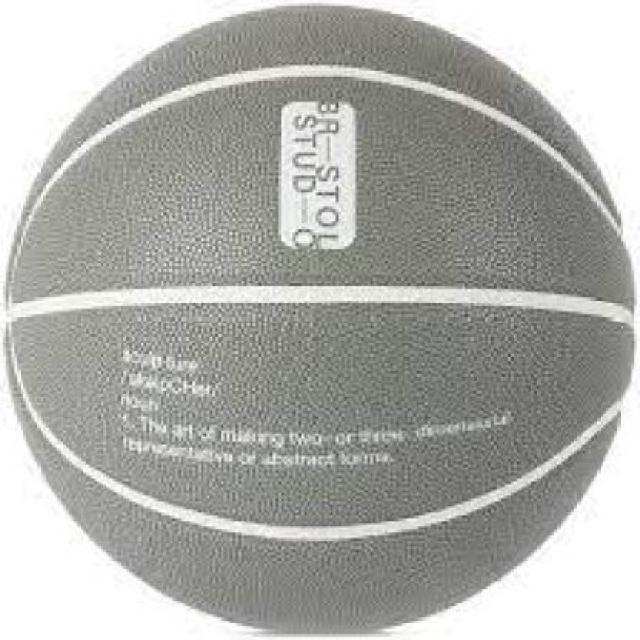basketball: (15, 5, 637, 633)
